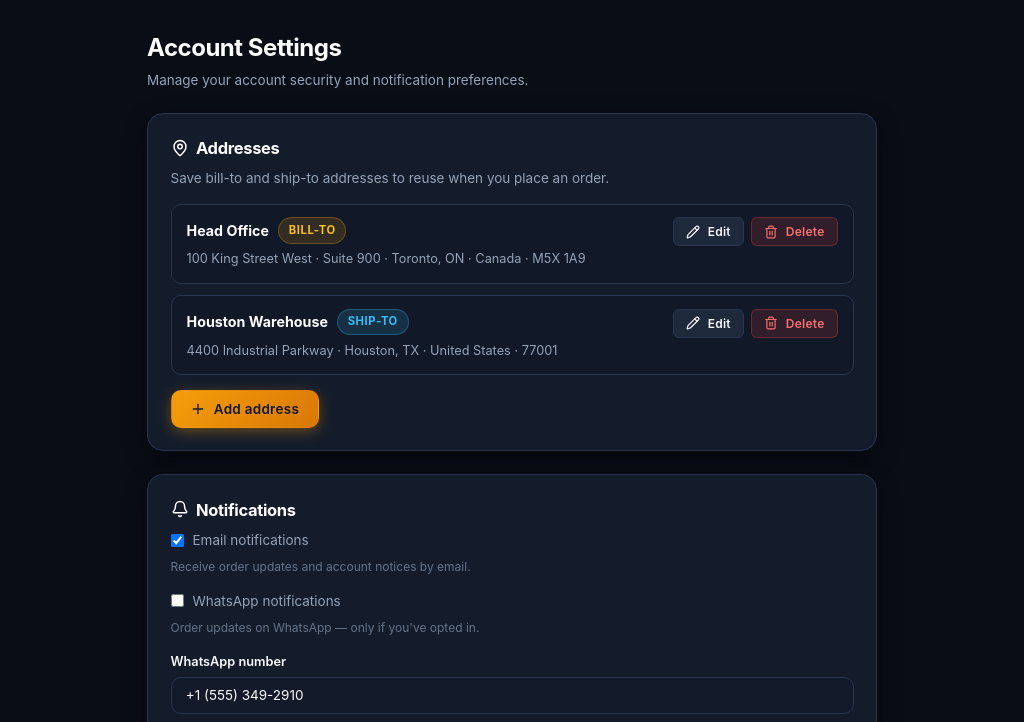
Settings addresses manager (v0.5 F3) › deletes an address and removes it from the list
Expected: the text "Head Office" is shown, [186,220,269,241]
Click the button "Delete" in the row of "Head Office" at (794, 232), box [751,217,838,246]
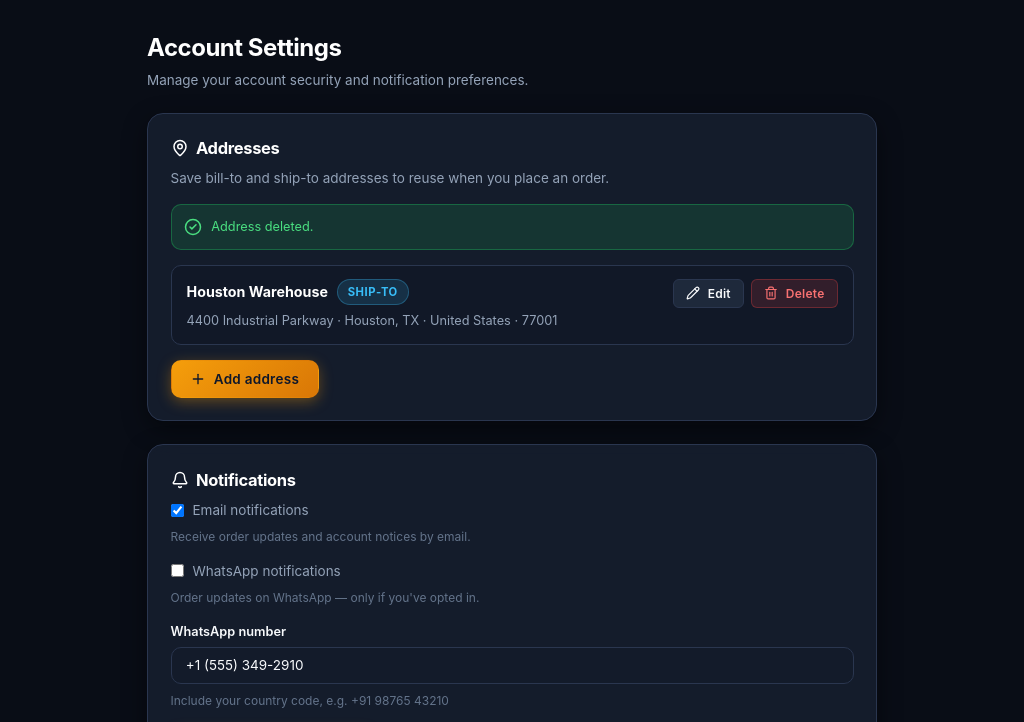
Expected: the text "Houston Warehouse" is shown, [186,281,328,303]
Result: the text "Address deleted." is shown at [211,217,314,236]
Result: the text "Head Office" is gone
